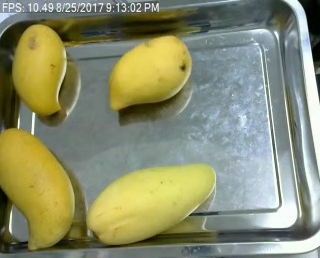Mango: (84, 159, 220, 246), (0, 126, 77, 252), (105, 33, 195, 113), (9, 22, 66, 119)
